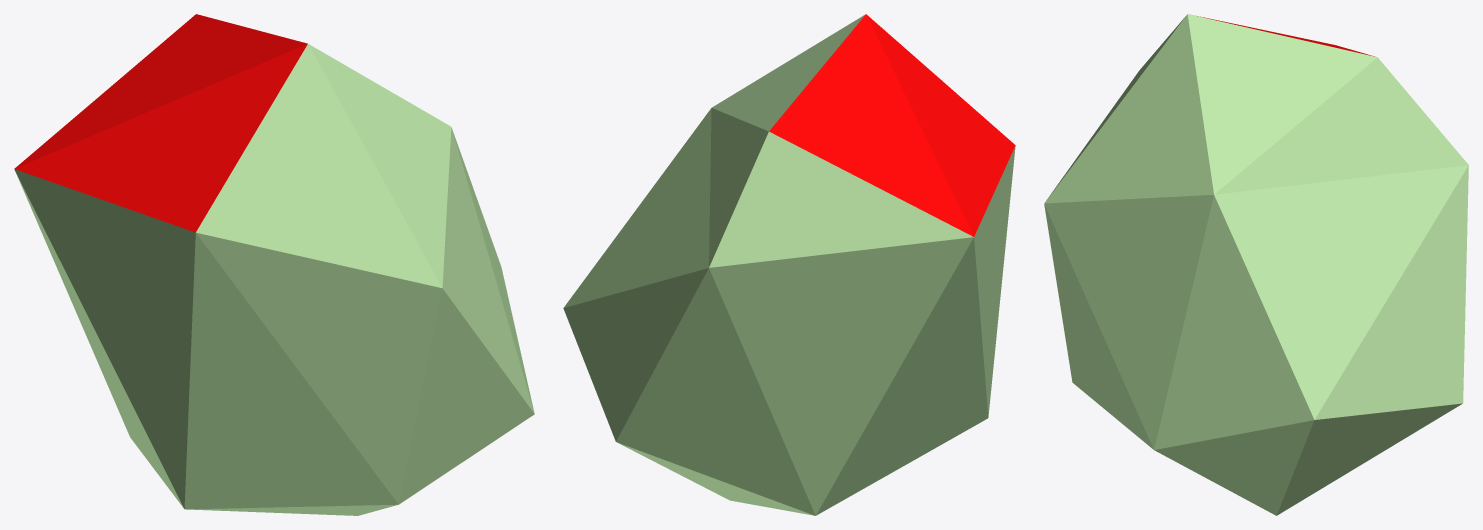
The model's file is Olive.fbx.
3 renders of one model, left to right at view 1: azimuth 30°, elevation 25°; view 2: azimuth 150°, elevation 25°; view 3: azimuth 270°, elevation 25°, orthographic. The views are drawn at different scales.
Visible parts, largest first — view 1: Sphere; view 2: Sphere; view 3: Sphere.
Boxes of the visible parts, left/top/right/bottom form: Sphere: left=14, top=14, right=534, bottom=515; Sphere: left=563, top=14, right=1015, bottom=515; Sphere: left=1044, top=14, right=1468, bottom=515.
Bounding box in the file's own units: 229 × 247 × 207.
